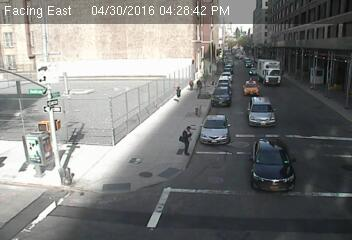neg: (221, 62, 235, 81), (242, 81, 256, 100), (223, 159, 237, 177), (189, 101, 202, 118), (257, 117, 269, 133), (209, 73, 220, 86)
pos: (170, 123, 199, 161), (169, 82, 186, 104), (184, 76, 195, 91)
